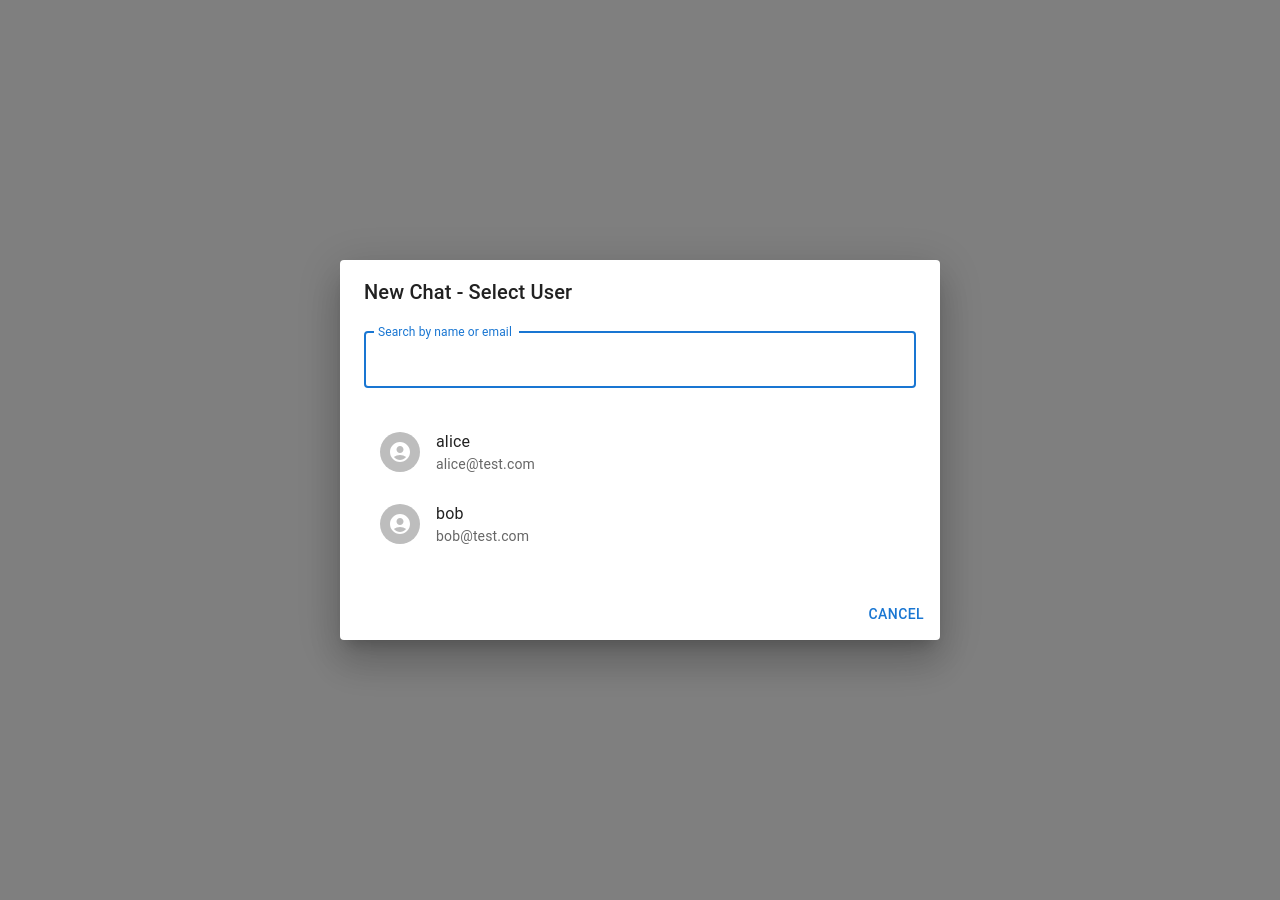
Scenario: UserSearchDialog component › filters users based on search query
Check: the text "alice" is shown, box [436,432,470,451]
Type "bob" into the field labelled "Search by name or email" at (640, 360), box [364,332,916,388]
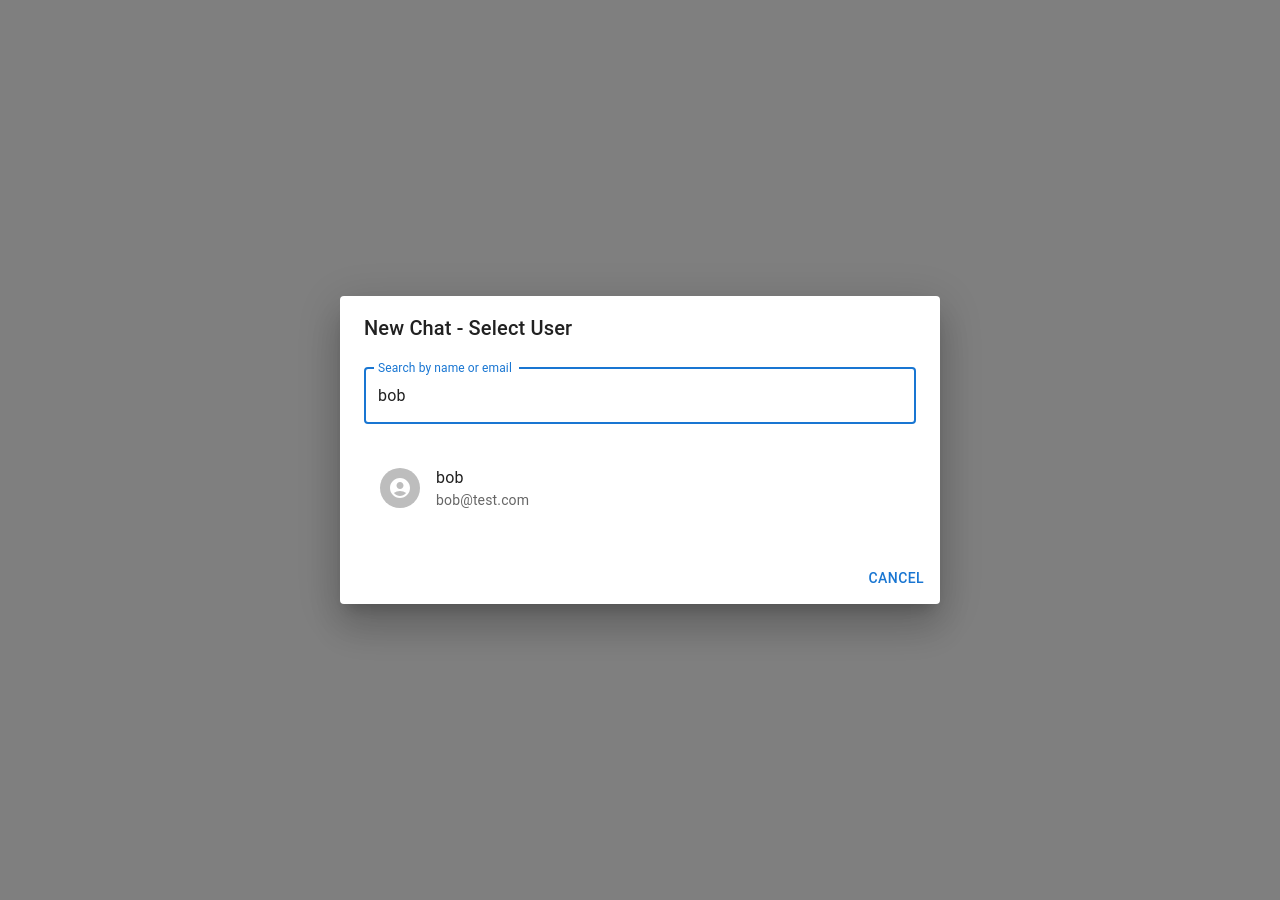
Check: the text "bob" is shown, box [436,468,464,487]
Check: the text "alice" is gone
